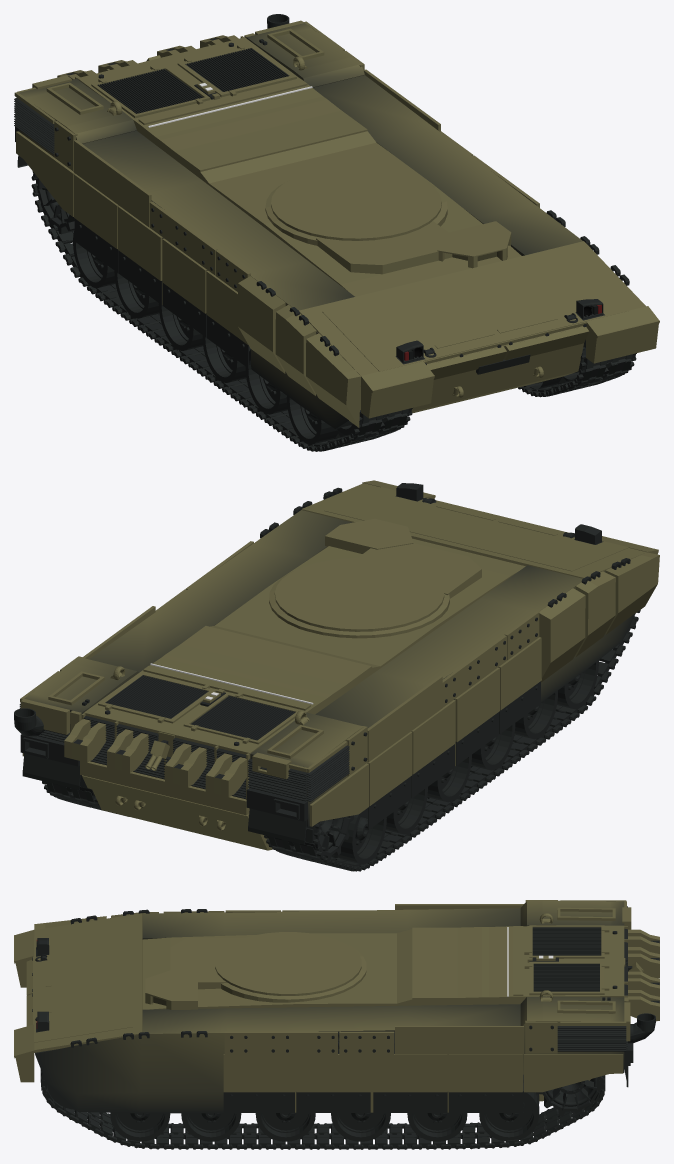
Rendered from LeclercBody.obj.
The picture shows the model from 3 angles, top to bottom: view 1: azimuth 30°, elevation 25°; view 2: azimuth 150°, elevation 25°; view 3: azimuth 270°, elevation 25°; orthographic projection. The views are drawn at different scales.
Parts seen in each view (by area): view 1: Surface.001; view 2: Surface.001; view 3: Surface.001.
Boxes of the visible parts, left/top/right/bottom form: Surface.001: left=14, top=14, right=659, bottom=451; Surface.001: left=14, top=480, right=659, bottom=871; Surface.001: left=14, top=900, right=659, bottom=1149.
Bounding box in the file's own units: 2.07 × 1.07 × 4.44.
